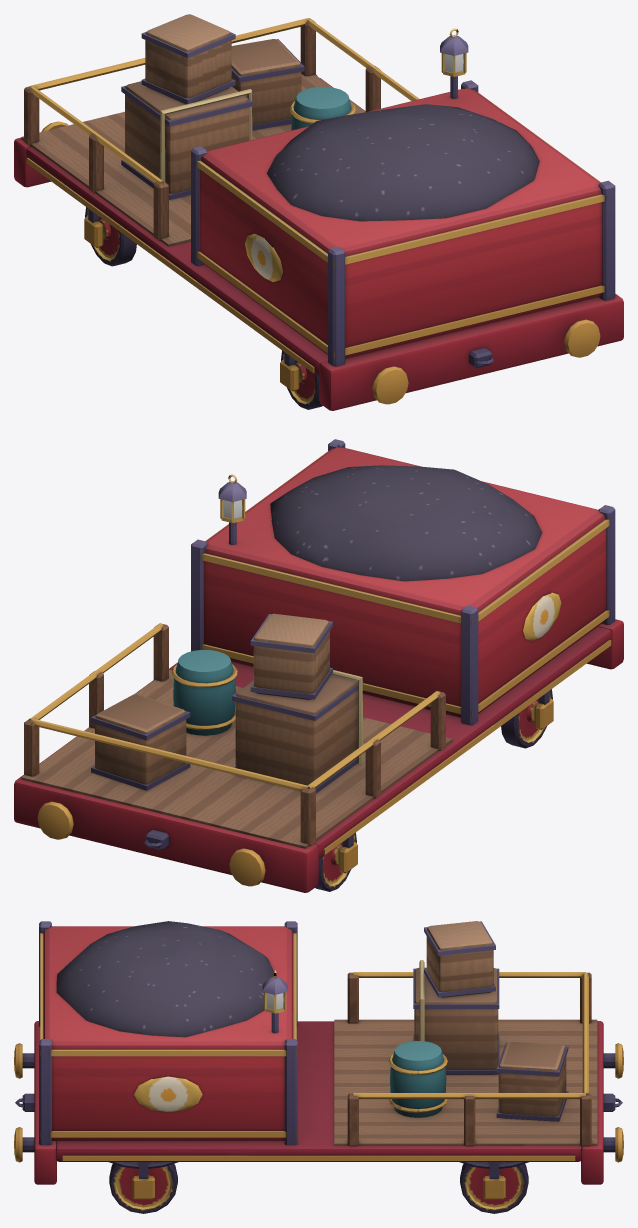
File: train_car_cargo.fbx
The picture shows the model from 3 angles, top to bottom: view 1: azimuth 30°, elevation 25°; view 2: azimuth 150°, elevation 25°; view 3: azimuth 270°, elevation 25°; orthographic projection. The views are drawn at different scales.
Visible parts, largest first — view 1: train_car_cargo; view 2: train_car_cargo; view 3: train_car_cargo.
Part boxes in pixels (x1,y1,x2,y2): train_car_cargo: [14, 14, 623, 410]; train_car_cargo: [14, 439, 623, 892]; train_car_cargo: [14, 921, 623, 1213].
Bounding box in the file's own units: 808 × 699 × 1600.
Materials: 2 (1 with a texture image).
